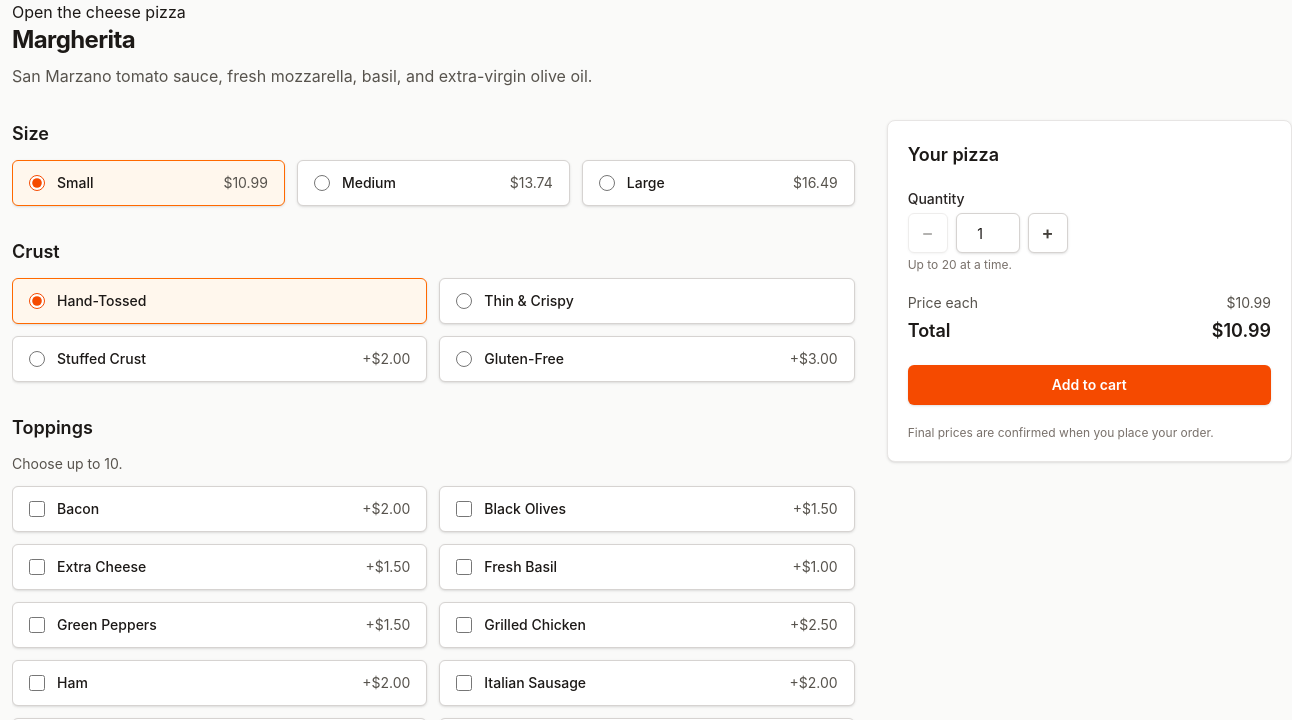
PizzaBuilderPage › starts over when the route moves to another pizza
Expected: the heading "Margherita" is shown, [12,25,135,54]
Click the radio button labelled "Large $16.49".
click(607, 183)  # box [599,175,615,191]
(page scrolled)
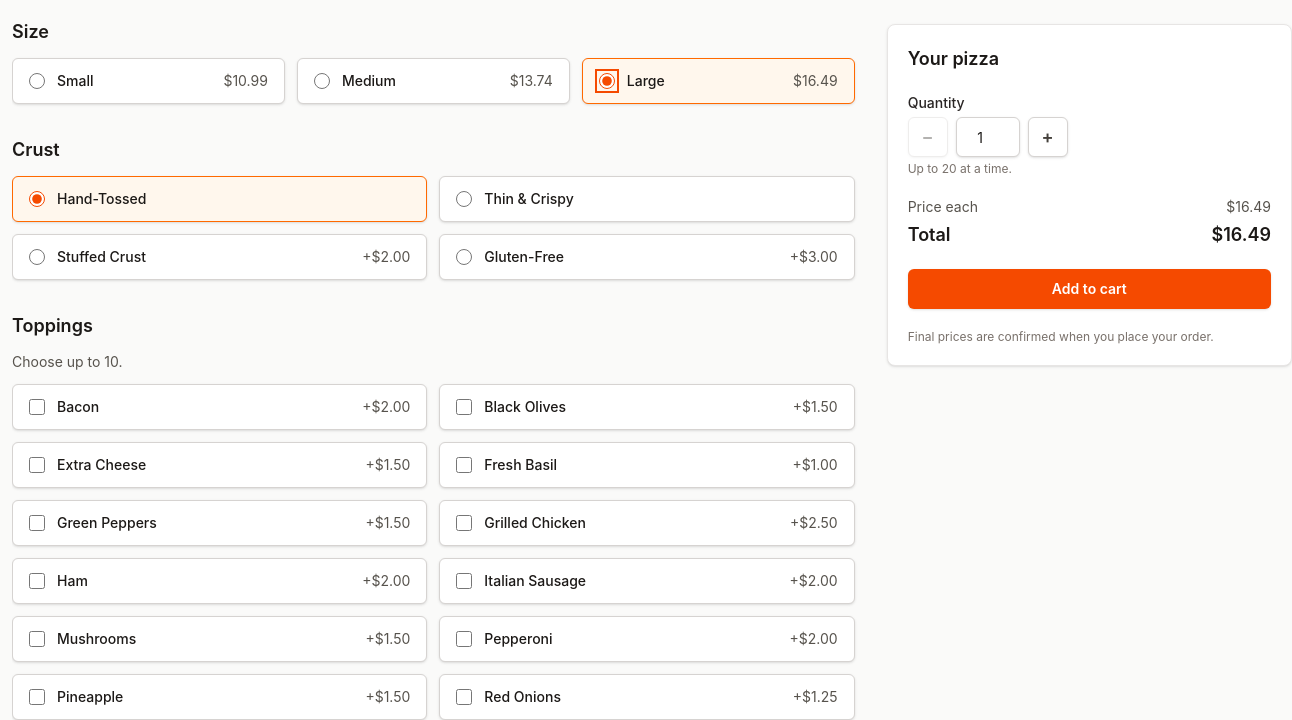
Click the checkbox labelled "Mushrooms +$1.50".
click(37, 639)  # box [29,631,45,647]
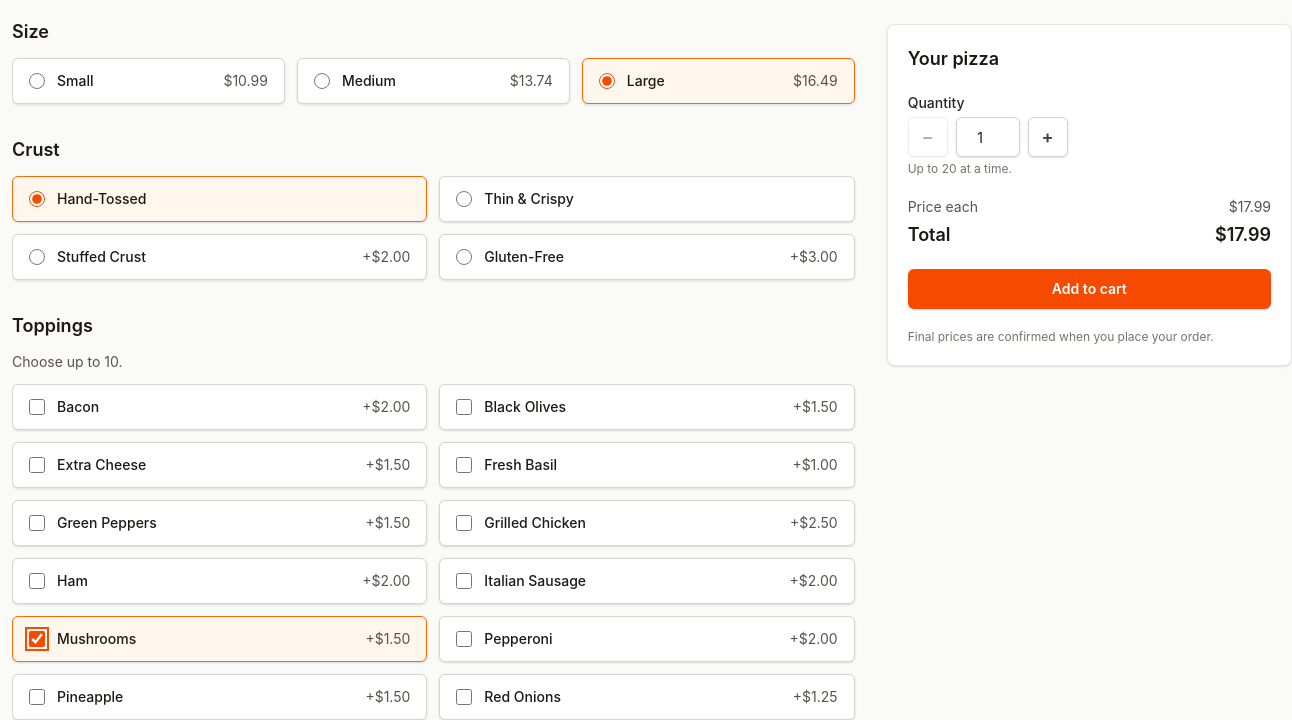
Click the button named "Increase quantity".
click(1048, 137)  # box [1028,117,1068,157]
(page scrolled)
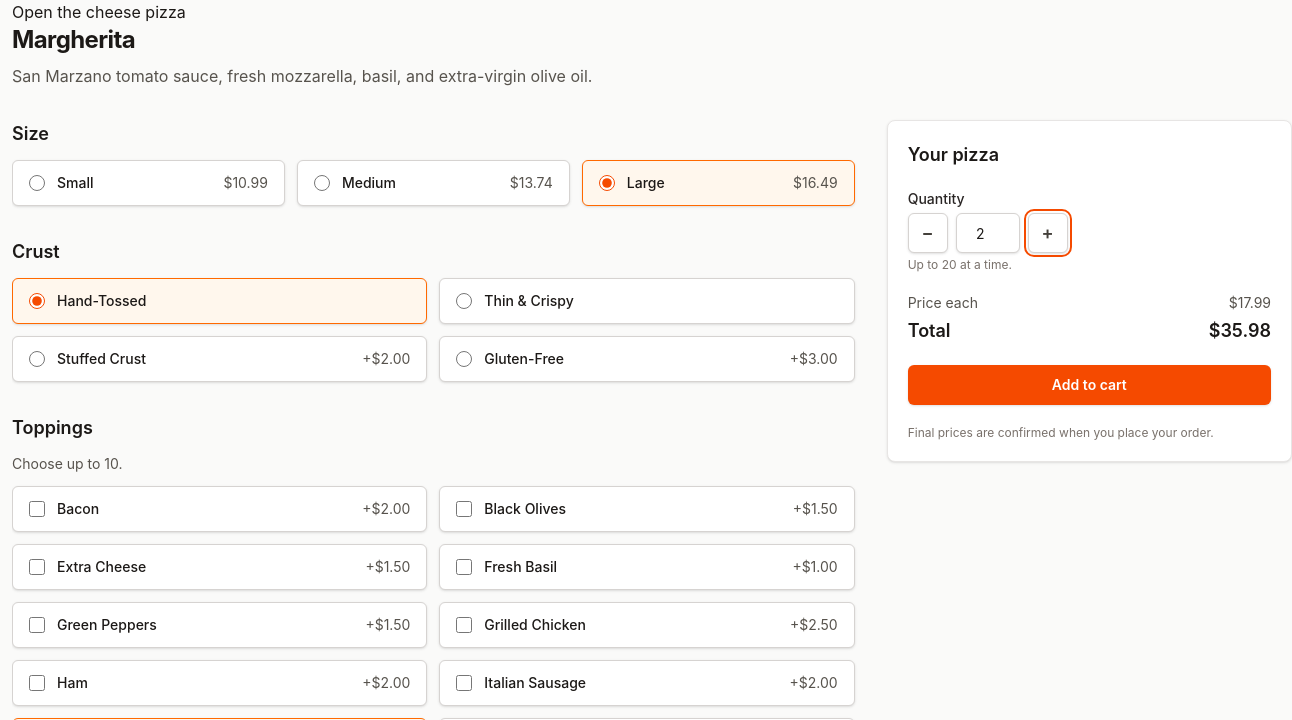
Click the link "Open the cheese pizza".
click(99, 12)  # box [12,2,186,22]
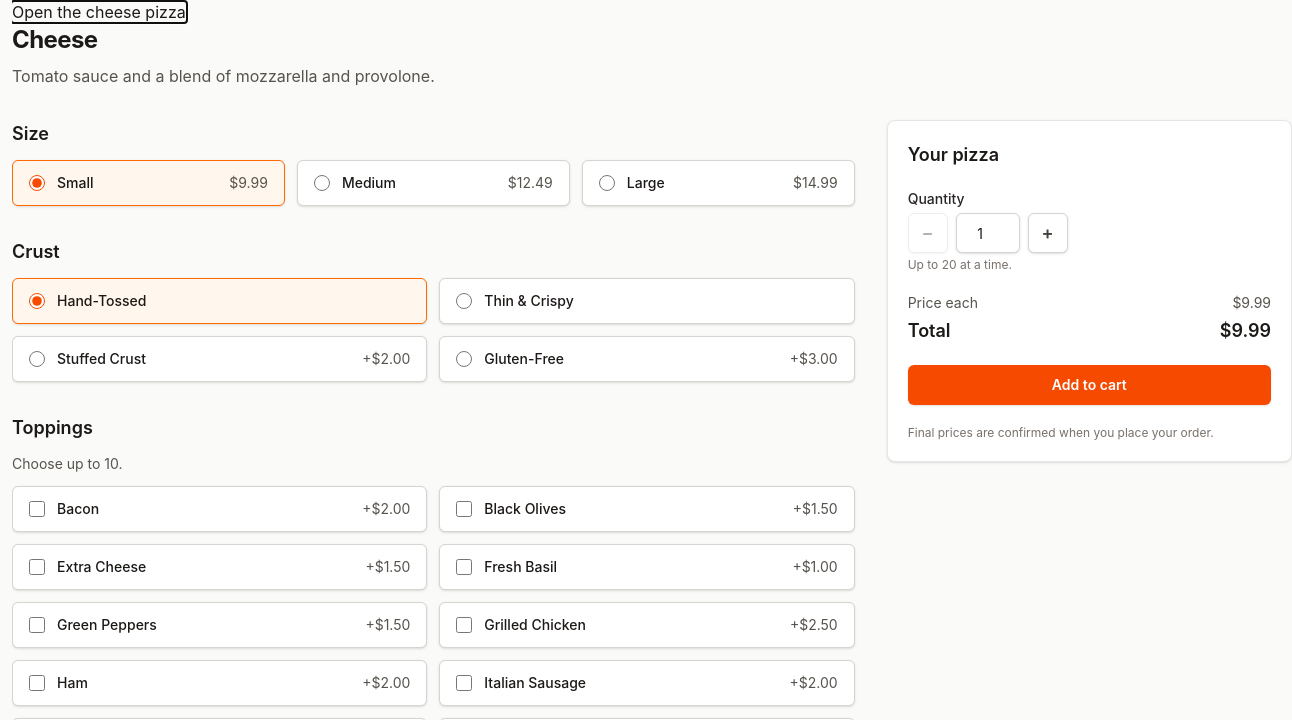
Now the heading "Cheese" is shown, box [12,25,97,54]
Now the radio button labelled "Small $9.99" is checked, box [29,175,45,191]
Now the number field labelled "Quantity" holds "1", box [956,213,1020,253]
